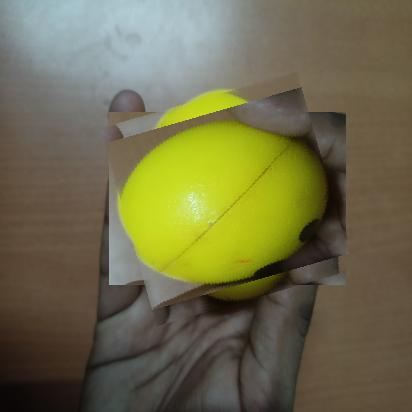Yellowball: (113, 84, 342, 314)
